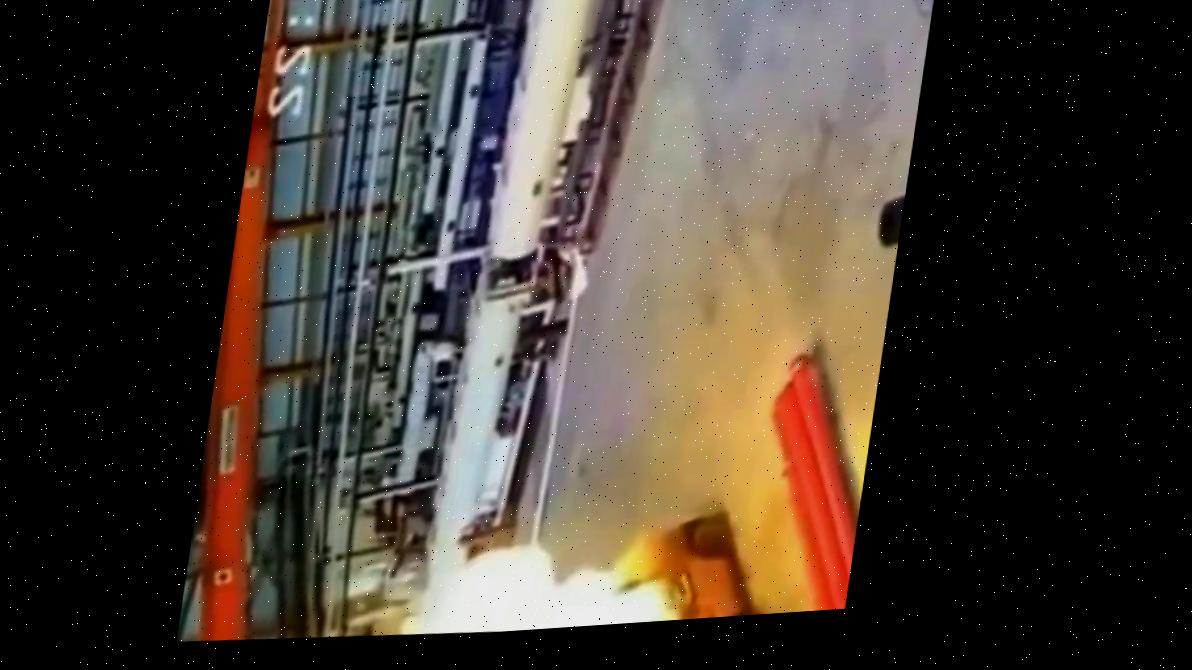fire: (355, 451, 715, 631)
